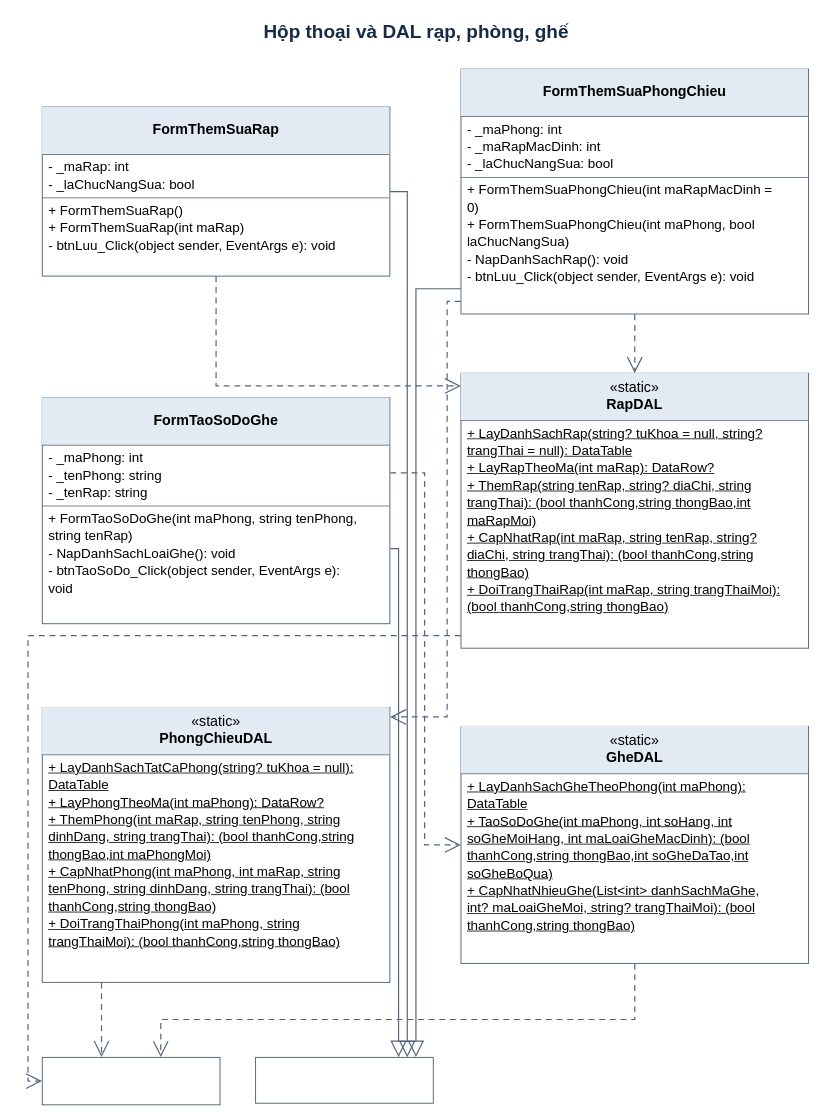
Image size: 826x1119. Some labels were removed from this diagram. Here are the shapes that lost their labels. From the top down, the centre of each, then its label:
the point at 130,1081: Db
the point at 344,1080: «framework» Form
